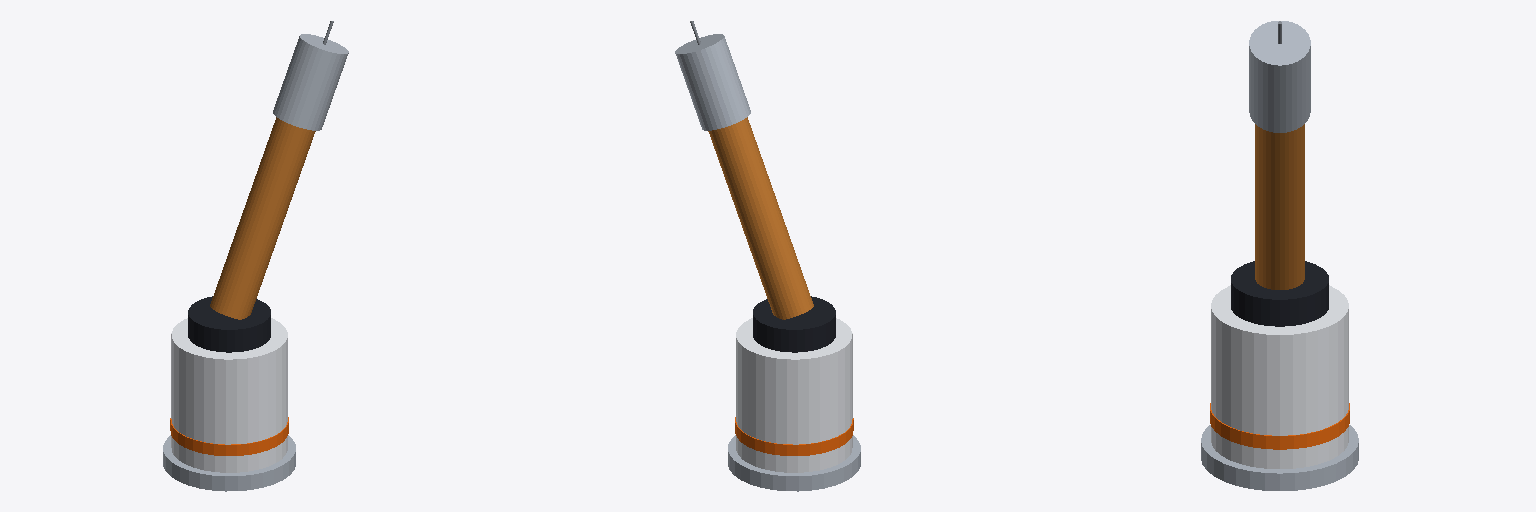
The robot description file, URDF, robot "tool_welding":
<?xml version="1.0"?>
<!-- Outil : torche de soudage MIG/MAG a col de cygne (inclinaison 22 deg).
     Convention d'interface (commune a tous les outils) :
       - tool_mount : lien RACINE, repere de montage, superpose a la bride (flange) du robot.
       - tcp        : Tool Center Point = bout du fil (stick-out). Son axe z suit l'axe du fil,
                      donc il est INCLINE de 22 deg par rapport a tool_mount : c'est tout l'interet
                      d'avoir un repere TCP distinct de la bride.
     Pas de joint actionne : le col de cygne est fixe. -->
<robot name="tool_welding">

  <link name="tool_mount">
    <visual>
      <geometry><cylinder length="0.008" radius="0.032"/></geometry>
      <origin xyz="0 0 0.004" rpy="0 0 0"/>
      <material name="silver"><color rgba="0.72 0.75 0.79 1"/></material>
    </visual>
    <visual>
      <geometry><cylinder length="0.06" radius="0.028"/></geometry>
      <origin xyz="0 0 0.038" rpy="0 0 0"/>
      <material name="white"><color rgba="0.93 0.94 0.96 1"/></material>
    </visual>
    <visual>
      <geometry><cylinder length="0.006" radius="0.0285"/></geometry>
      <origin xyz="0 0 0.02" rpy="0 0 0"/>
      <material name="orange"><color rgba="0.96 0.46 0.1 1"/></material>
    </visual>
    <visual>
      <geometry><cylinder length="0.012" radius="0.02"/></geometry>
      <origin xyz="0 0 0.074" rpy="0 0 0"/>
      <material name="graphite"><color rgba="0.17 0.18 0.21 1"/></material>
    </visual>
    <collision>
      <geometry><cylinder length="0.08" radius="0.032"/></geometry>
      <origin xyz="0 0 0.04" rpy="0 0 0"/>
    </collision>
    <inertial>
      <mass value="0.5"/>
      <origin xyz="0 0 0.04" rpy="0 0 0"/>
      <inertia ixx="0.000379" ixy="0.0" ixz="0.0" iyy="0.000379" iyz="0.0" izz="0.000225"/>
    </inertial>
  </link>

  <!-- Col de cygne : repere incline de 22 deg (0.384 rad) autour de y, z = axe du fil -->
  <link name="welding_neck">
    <visual>
      <geometry><cylinder length="0.1" radius="0.01"/></geometry>
      <origin xyz="0 0 0.05" rpy="0 0 0"/>
      <material name="brass"><color rgba="0.78 0.5 0.22 1"/></material>
    </visual>
    <visual>
      <geometry><cylinder length="0.04" radius="0.0125"/></geometry>
      <origin xyz="0 0 0.12" rpy="0 0 0"/>
      <material name="silver"><color rgba="0.72 0.75 0.79 1"/></material>
    </visual>
    <visual>
      <geometry><cylinder length="0.012" radius="0.0008"/></geometry>
      <origin xyz="0 0 0.146" rpy="0 0 0"/>
      <material name="steel"><color rgba="0.55 0.57 0.6 1"/></material>
    </visual>
    <collision>
      <geometry><cylinder length="0.14" radius="0.0125"/></geometry>
      <origin xyz="0 0 0.07" rpy="0 0 0"/>
    </collision>
    <inertial>
      <mass value="0.15"/>
      <origin xyz="0 0 0.07" rpy="0 0 0"/>
      <inertia ixx="0.000251" ixy="0.0" ixz="0.0" iyy="0.000251" iyz="0.0" izz="0.000012"/>
    </inertial>
  </link>

  <joint name="welding_neck_joint" type="fixed">
    <parent link="tool_mount"/>
    <child link="welding_neck"/>
    <origin xyz="0 0 0.08" rpy="0 0.384 0"/>
  </joint>

  <!-- Bout du fil : 0.1 (col) + 0.04 (buse) + 0.012 (stick-out) = 0.152 m le long du col -->
  <link name="tcp"/>
  <joint name="welding_neck_to_tcp" type="fixed">
    <parent link="welding_neck"/>
    <child link="tcp"/>
    <origin xyz="0 0 0.152" rpy="0 0 0"/>
  </joint>

</robot>

--- Facts derived from the render (not from the file) ---
3 views of the same robot in one strip: view 1: azimuth 30°, elevation 25°; view 2: azimuth 150°, elevation 25°; view 3: azimuth 270°, elevation 25° (orthographic).
Model tool_welding with 3 links and 2 joints (2 fixed), rooted at tool_mount, posed all joints at 0.
Links seen in each view (by area): view 1: tool_mount, welding_neck; view 2: tool_mount, welding_neck; view 3: tool_mount, welding_neck.
Boxes of the visible links, <box> form: tool_mount: <box>163,296,295,491</box>; welding_neck: <box>210,21,348,319</box>; tool_mount: <box>728,296,860,491</box>; welding_neck: <box>675,21,813,319</box>; tool_mount: <box>1201,261,1358,490</box>; welding_neck: <box>1249,21,1310,289</box>.
Size in the robot's own frame: 0.096 by 0.064 by 0.2212 metres.
Geometry: primitives only (box / cylinder / sphere), no mesh files.
